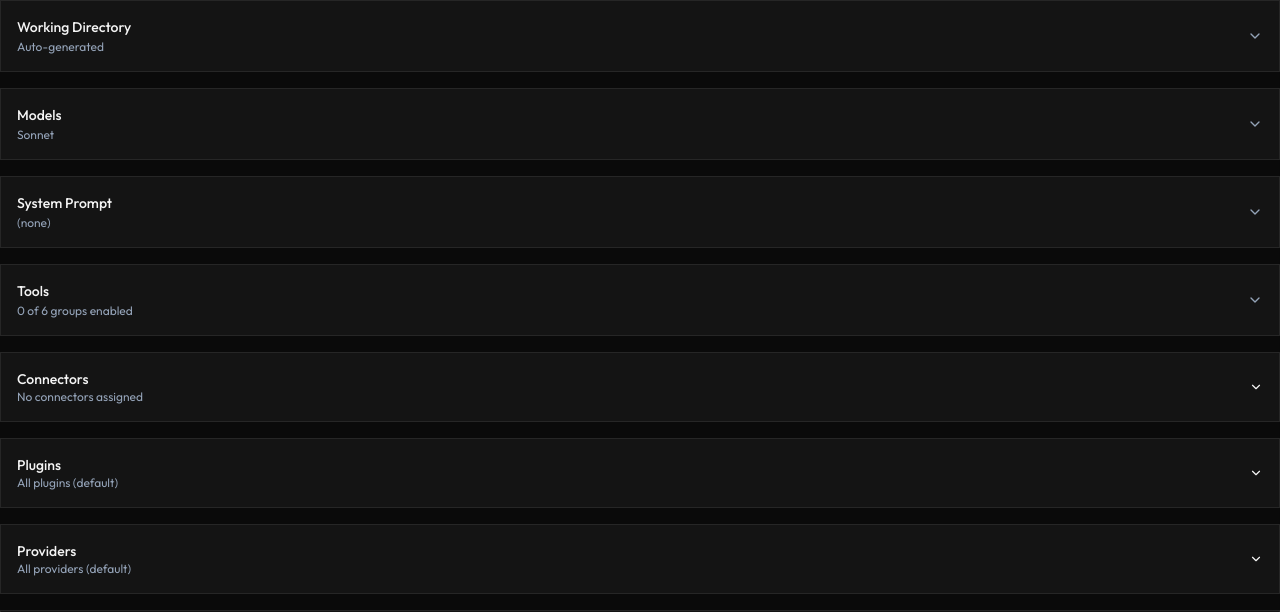
Test: AgentConfigTab plugins card › rolls back an assigned plugin and shows an error when the save fails
The image size is (1280, 612).
Click the button "Plugins All plugins (default)". click: (39, 465)
box: [1, 439, 1279, 507]
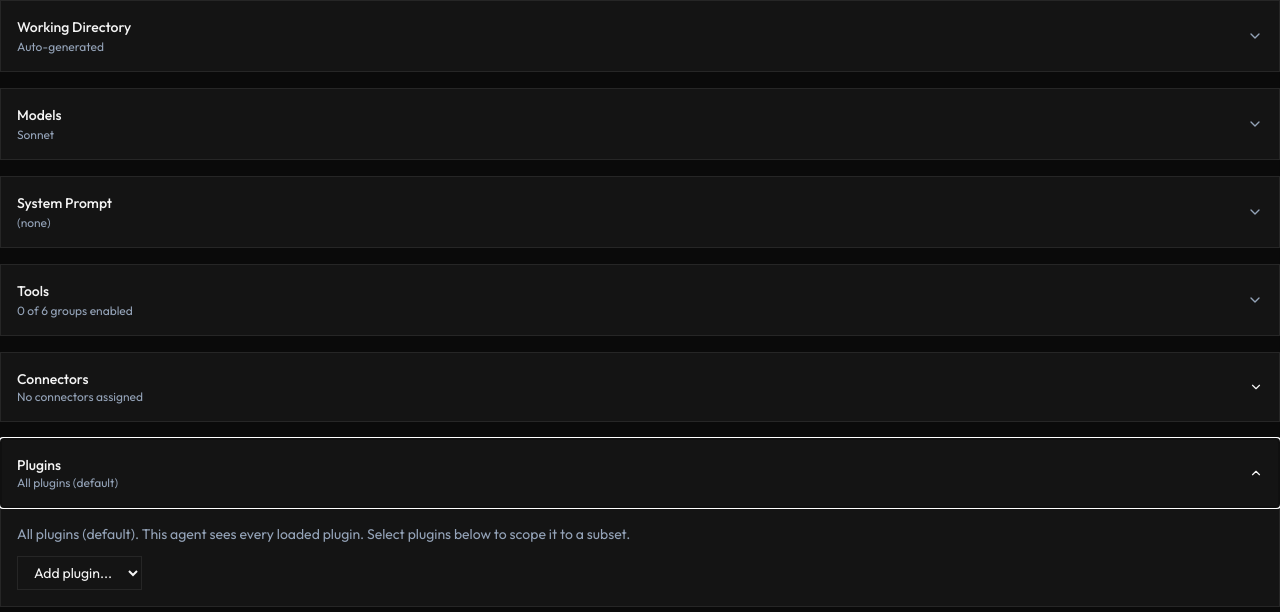
Select "Alpha Plugin" in the dropdown. click: (80, 573)
box: [17, 556, 142, 590]
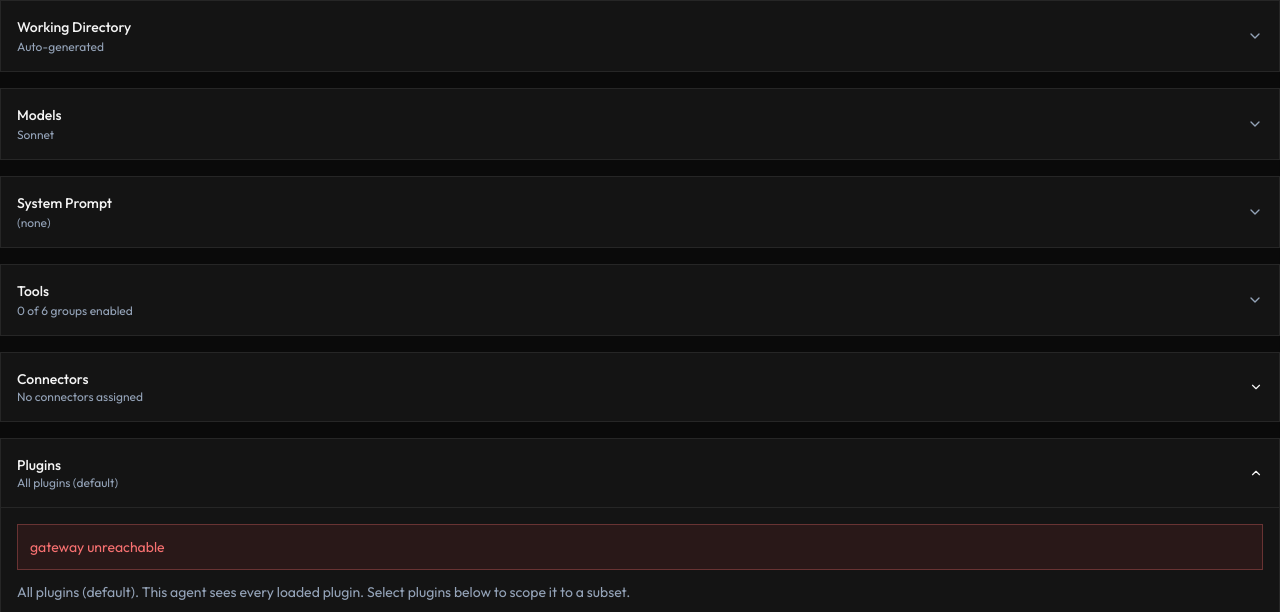
Result: the text "All plugins (default). This agent sees every loaded plugin" is shown at [17, 583, 630, 601]
Result: the text "gateway unreachable" is shown at [17, 524, 1263, 570]
